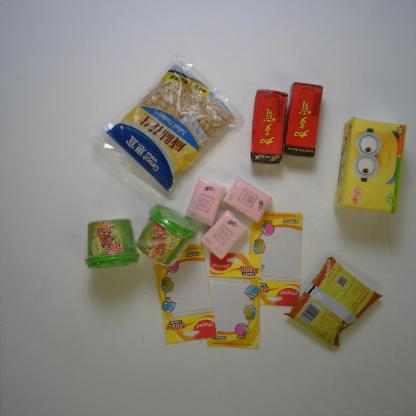Dried Fruit: (88, 51, 250, 208)
Drink: (283, 78, 325, 158), (249, 87, 289, 165)
Instant Drink: (135, 202, 198, 269), (83, 217, 143, 272)
Seasoner: (282, 256, 383, 348)
Stationery: (153, 241, 217, 346), (250, 209, 305, 310), (207, 251, 262, 350)
Tissue: (332, 117, 408, 215), (200, 206, 248, 260), (223, 176, 274, 224), (184, 178, 230, 226)
